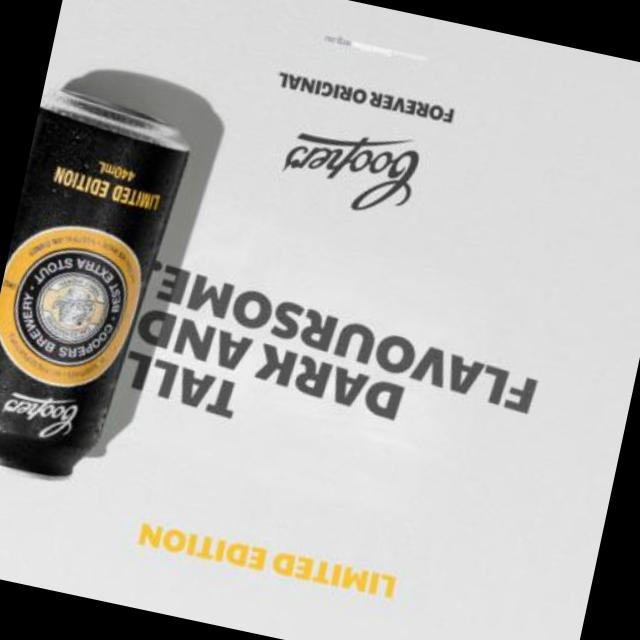metal: (0, 110, 187, 478)
